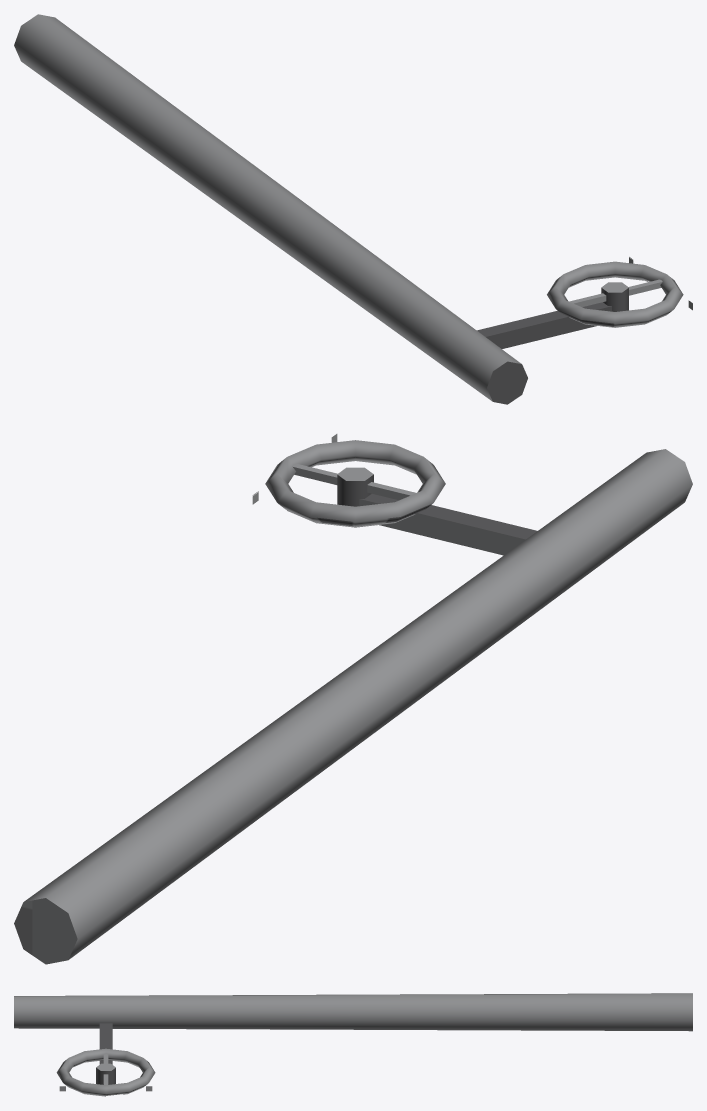
3 renders of one model, top to bottom at view 1: azimuth 30°, elevation 25°; view 2: azimuth 150°, elevation 25°; view 3: azimuth 270°, elevation 25°, orthographic. The views are drawn at different scales.
Size of the model in its own units: 0.739 by 0.14 by 2.36.
